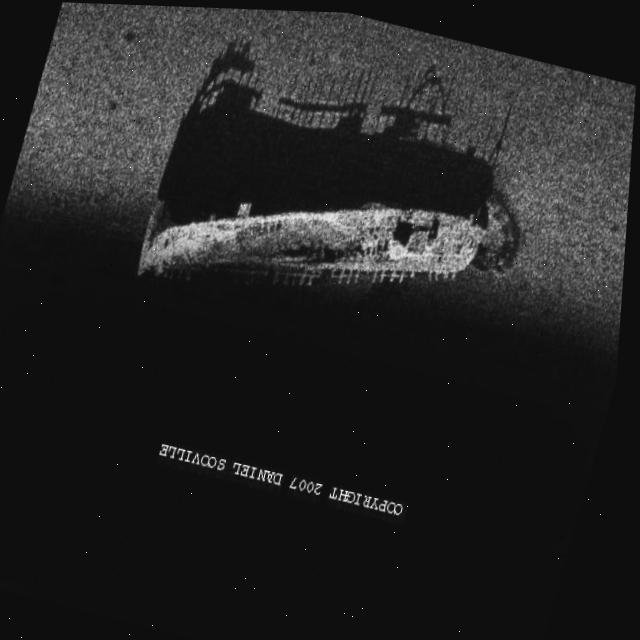shipwreck: (126, 124, 504, 355)
